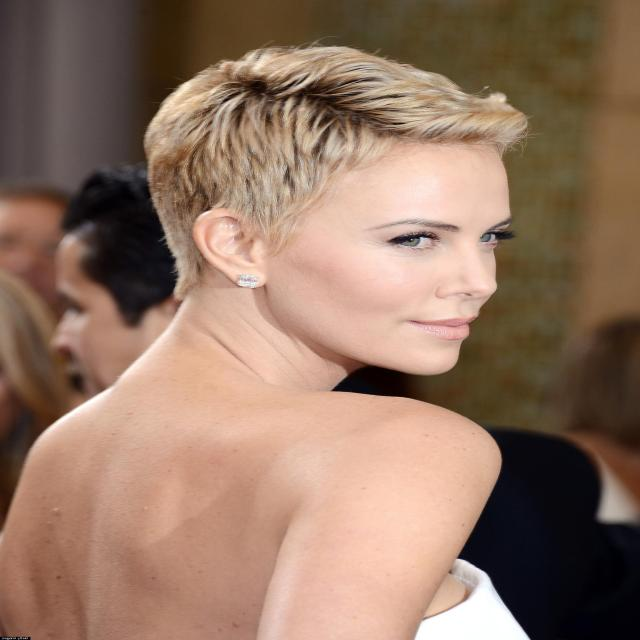no-earmuff: (179, 202, 292, 300)
